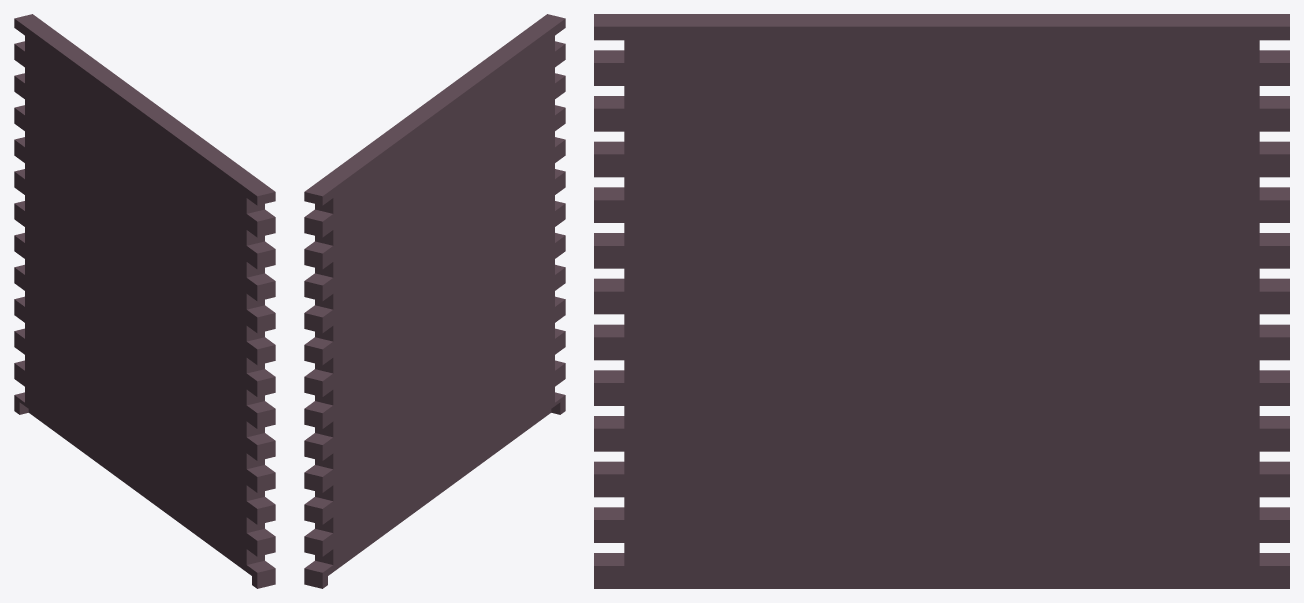
Rendered from original-10.obj.
3 views of the same model, side by side, from view 1: azimuth 30°, elevation 25°; view 2: azimuth 150°, elevation 25°; view 3: azimuth 270°, elevation 25° (orthographic). The views are drawn at different scales.
Parts seen in each view (by area): view 1: Carcase__Sides2/Carcase__Sides12/mesh17/mesh17-geometry#mesh17-g; view 2: Carcase__Sides2/Carcase__Sides12/mesh17/mesh17-geometry#mesh17-g; view 3: Carcase__Sides2/Carcase__Sides12/mesh17/mesh17-geometry#mesh17-g.
Boxes of the visible parts, x1,y1,x2,y2 form: Carcase__Sides2/Carcase__Sides12/mesh17/mesh17-geometry#mesh17-g: (14, 14, 275, 588); Carcase__Sides2/Carcase__Sides12/mesh17/mesh17-geometry#mesh17-g: (304, 14, 565, 588); Carcase__Sides2/Carcase__Sides12/mesh17/mesh17-geometry#mesh17-g: (594, 14, 1289, 588).
Size of the model in its own units: 0.0307 by 0.63 by 0.7066.
